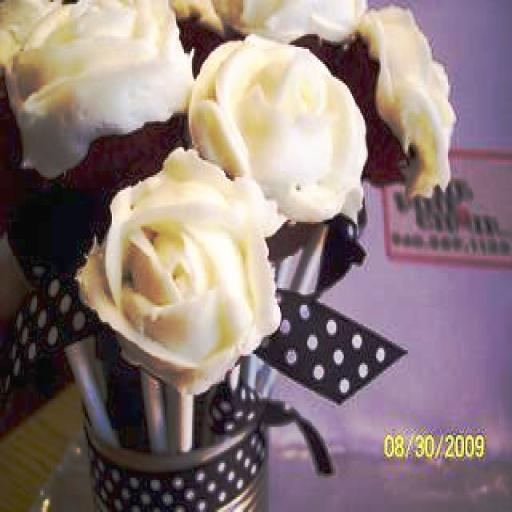rose: (77, 150, 280, 390), (189, 36, 368, 222), (363, 11, 464, 194)
